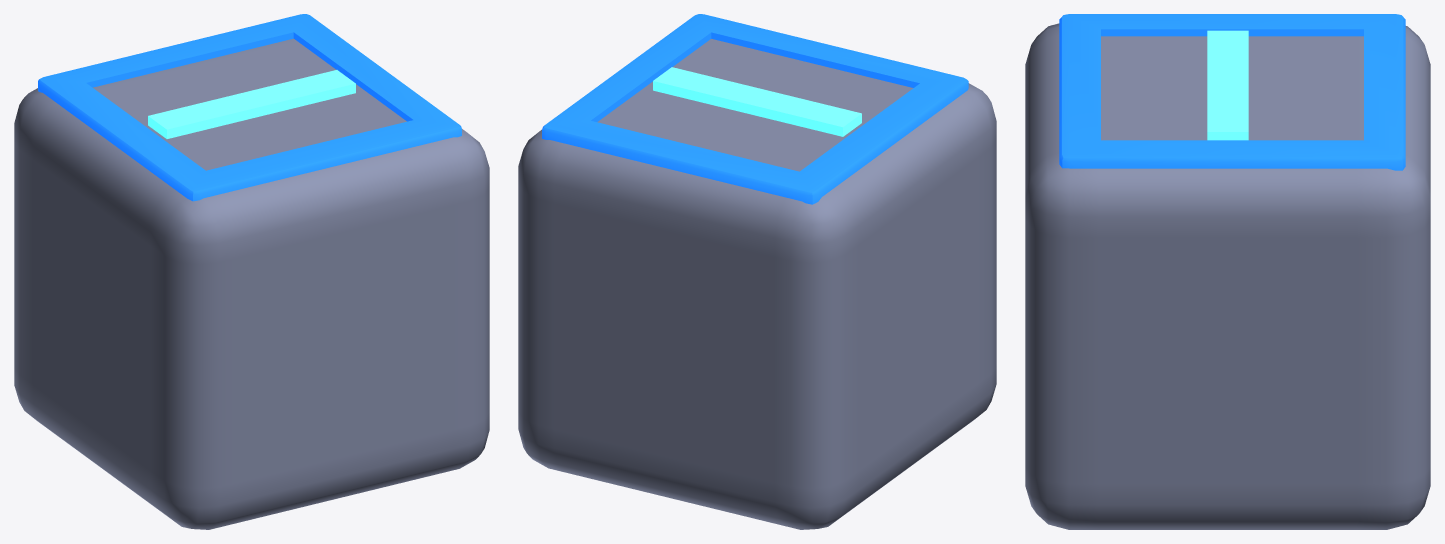
File: DoorTileModel.fbx
The picture shows the model from 3 angles, left to right: view 1: azimuth 30°, elevation 25°; view 2: azimuth 150°, elevation 25°; view 3: azimuth 270°, elevation 25°; orthographic projection. The views are drawn at different scales.
Visible parts, largest first — view 1: DoorTile, DoorTileGlow, DoorTileAdditionalGlow; view 2: DoorTile, DoorTileGlow, DoorTileAdditionalGlow; view 3: DoorTile, DoorTileGlow, DoorTileAdditionalGlow.
Part boxes in pixels (<box>): DoorTile: <box>14,38,489,529</box>; DoorTileGlow: <box>38,14,461,201</box>; DoorTileAdditionalGlow: <box>148,70,355,138</box>; DoorTile: <box>518,39,996,529</box>; DoorTileGlow: <box>542,14,968,204</box>; DoorTileAdditionalGlow: <box>653,67,861,136</box>; DoorTile: <box>1025,23,1430,529</box>; DoorTileGlow: <box>1059,14,1405,170</box>; DoorTileAdditionalGlow: <box>1207,30,1248,140</box>.
Bounding box in the file's own units: 200 × 206 × 200.
